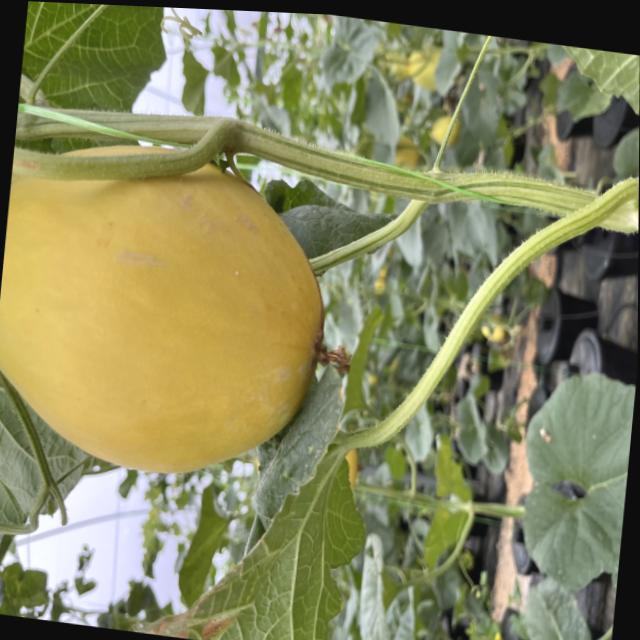alternaria leaf blight: (134, 423, 386, 640)
downy mildew: (247, 355, 349, 519)
healthy: (16, 1, 180, 133), (252, 163, 390, 304), (0, 385, 76, 546)
